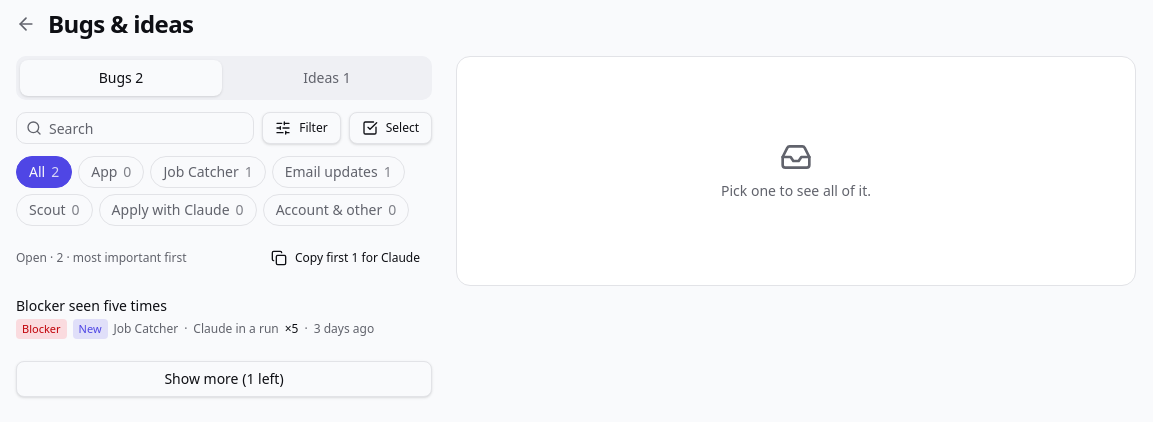
Test: Bugs & ideas › pages with Show more, and says when a copy is only the first page
Expected: the button "Copy first 1 for Claude" is shown, [259,242,432,274]
Click the button "Show more (1 left)" at x=224, y=379, box [16,361,432,397]
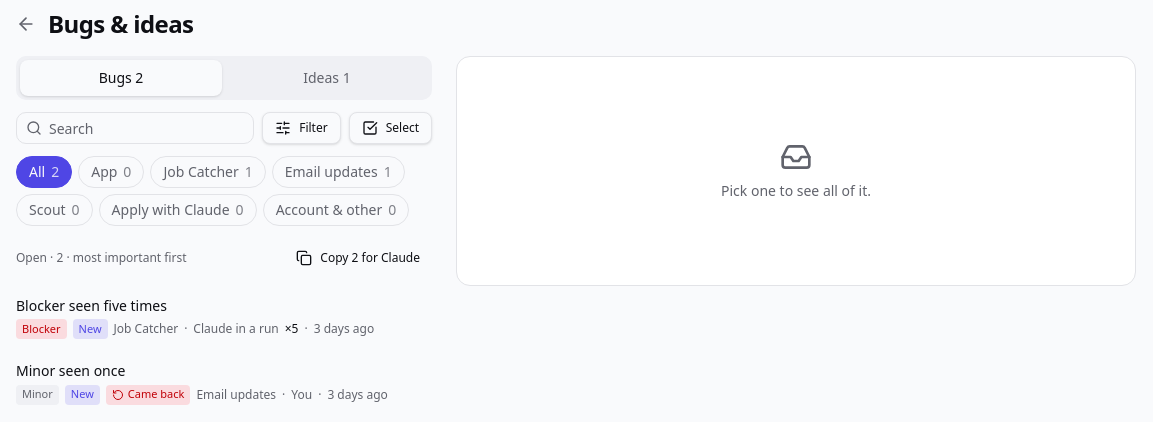
Expected: the button "Copy 2 for Claude" is shown, [284,242,432,274]
Expected: the button "Show more" is gone
